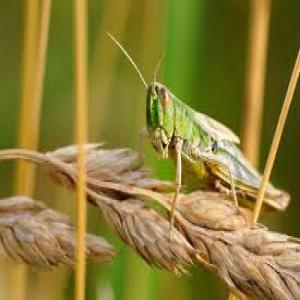locust: (124, 49, 300, 208)
